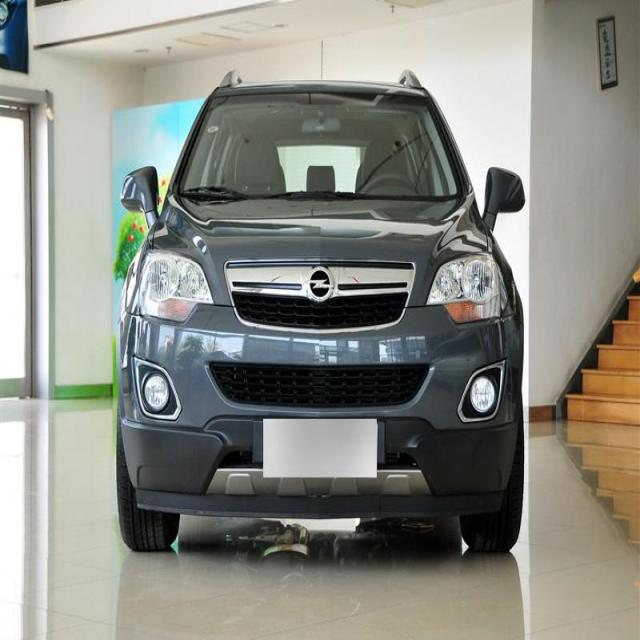front_bumper: (119, 397, 522, 525)
front_glass: (174, 88, 467, 207)
front_left_side_light: (425, 250, 510, 328)
front_left_side_mirror: (481, 164, 527, 228)
front_right_side_light: (135, 247, 215, 326)
front_right_side_mirror: (119, 159, 159, 226)
